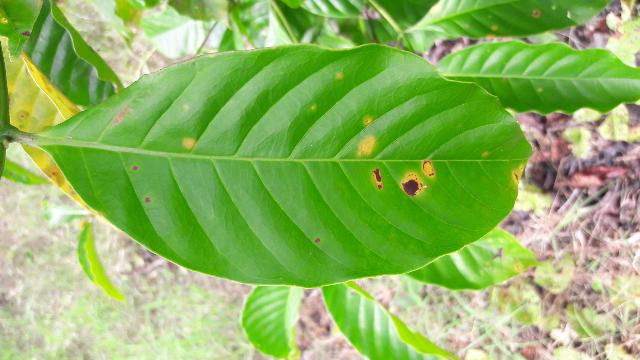rust_level_1: (34, 44, 533, 288)
